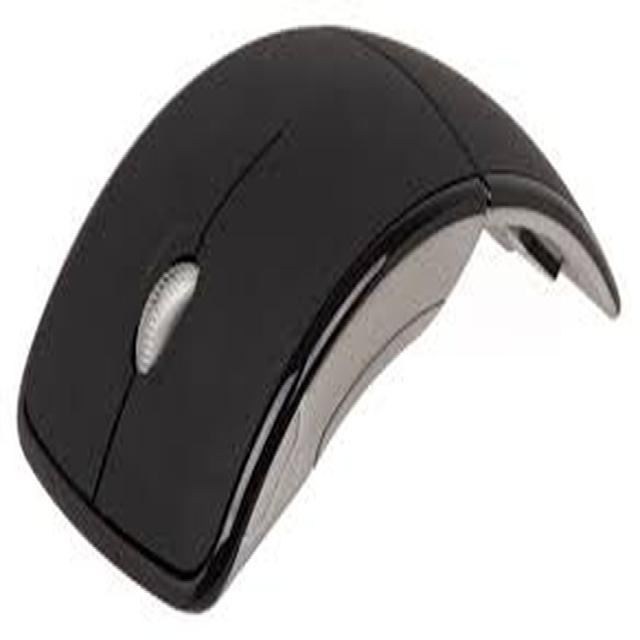key: (7, 28, 631, 619)
